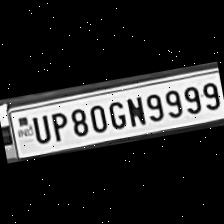0: (86, 100, 109, 134)
8: (65, 104, 89, 138)
9: (197, 78, 222, 112), (141, 88, 164, 124), (160, 84, 182, 118), (180, 81, 202, 115)
G: (103, 96, 126, 131)
N: (122, 92, 146, 128)
P: (45, 107, 69, 142)
U: (27, 111, 50, 145)
